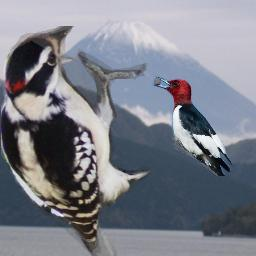Woodpecker: (1, 26, 151, 256), (151, 74, 235, 176)
